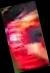red: (0, 1, 50, 73)
